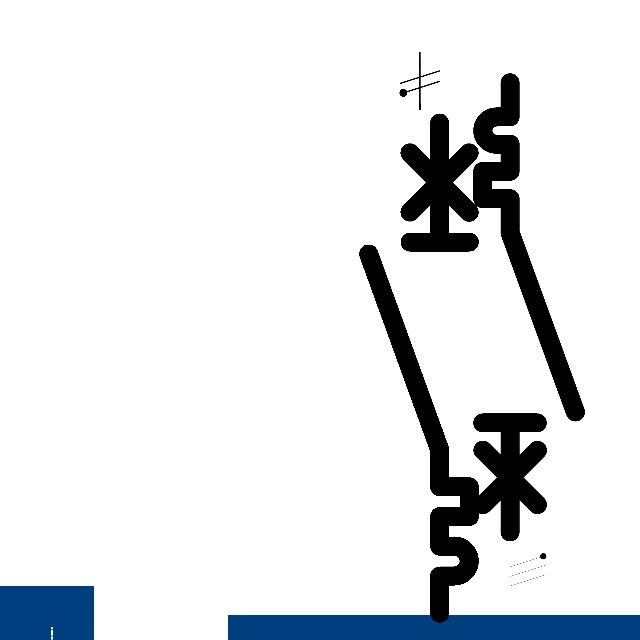interruptor_termomagnetico: (356, 110, 482, 626), (471, 71, 586, 544)
